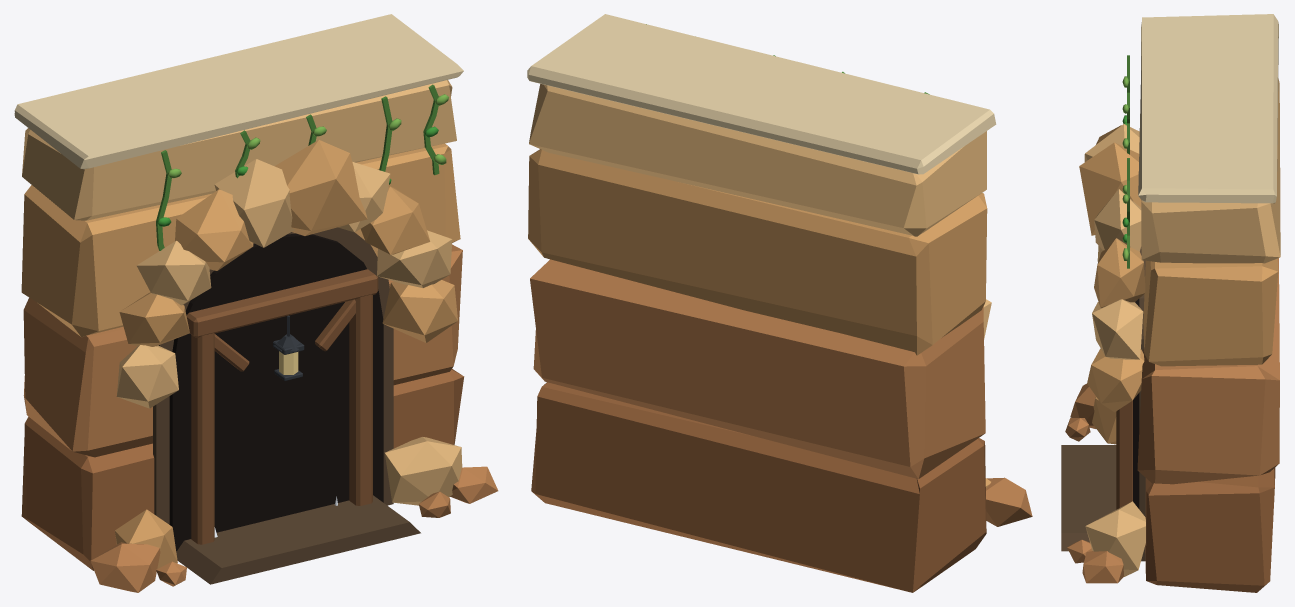
The model's file is cave_mouth.glb.
3 views of the same model, side by side, from view 1: azimuth 30°, elevation 25°; view 2: azimuth 150°, elevation 25°; view 3: azimuth 270°, elevation 25° (orthographic). The views are drawn at different scales.
Parts seen in each view (by area): view 1: cave_mouth; view 2: cave_mouth; view 3: cave_mouth.
Part boxes in pixels (<box>): cave_mouth: <box>14,14,498,592</box>; cave_mouth: <box>527,14,1032,592</box>; cave_mouth: <box>1061,14,1280,592</box>.
Size of the model in its own units: 2.1 by 2.17 by 1.05.
